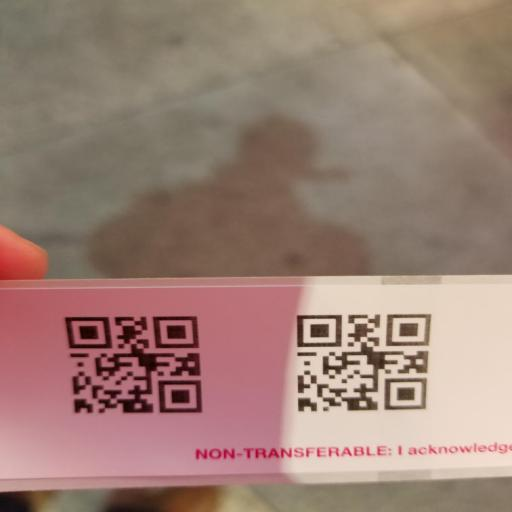QR_CODE: (283, 300, 445, 424), (51, 304, 212, 426)
